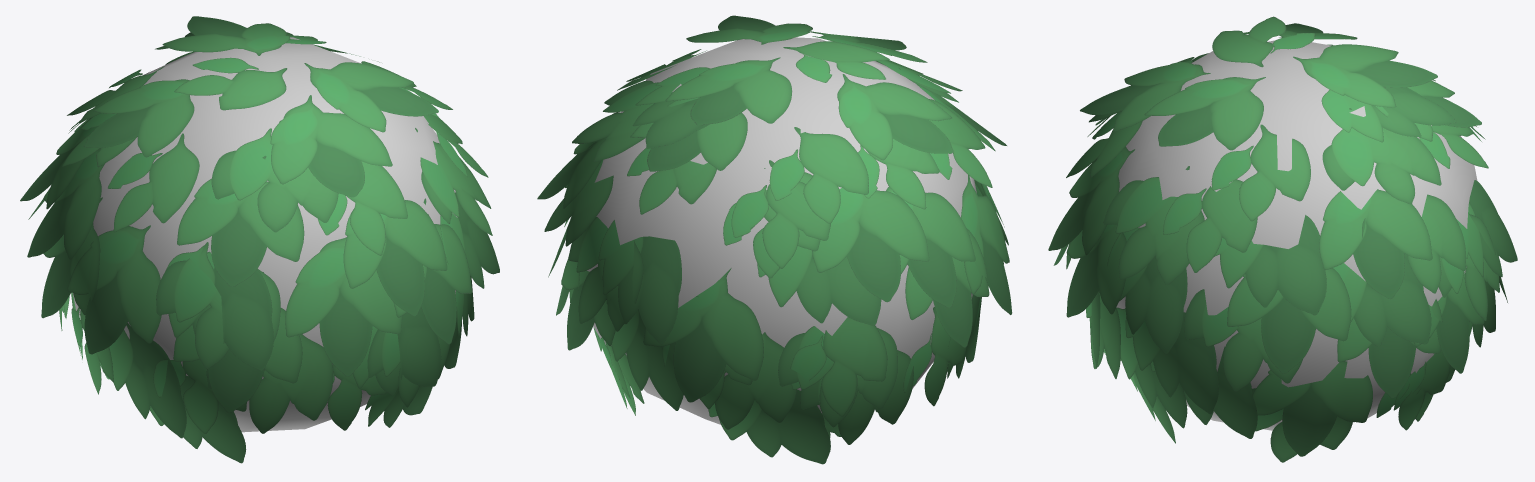
The model's file is BushSphere.fbx.
3 renders of one model, left to right at view 1: azimuth 30°, elevation 25°; view 2: azimuth 150°, elevation 25°; view 3: azimuth 270°, elevation 25°, orthographic.
Visible parts, largest first — view 1: Plane.542, Cube.027; view 2: Plane.542, Cube.027; view 3: Plane.542, Cube.027.
Part boxes in pixels (x1,y1,x2,y2): Plane.542: (20, 16, 499, 463); Cube.027: (72, 37, 457, 432); Plane.542: (537, 15, 1012, 464); Cube.027: (587, 37, 976, 424); Plane.542: (1048, 16, 1517, 462); Cube.027: (1116, 40, 1477, 430).
Bounding box in the file's own units: 153 × 125 × 153.
